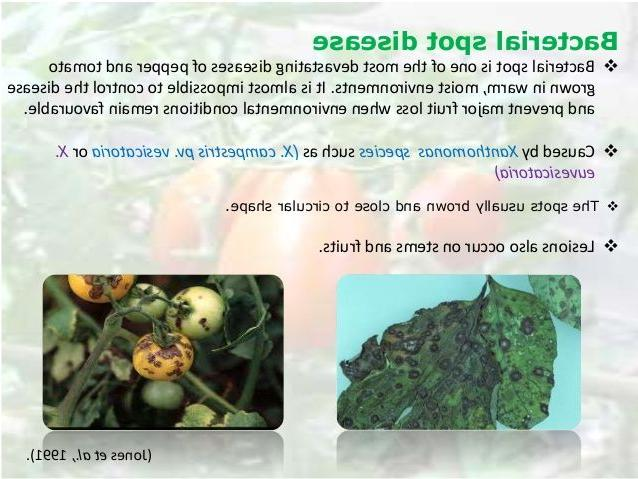Tomato leaf bacterial spot: (337, 282, 558, 429)
